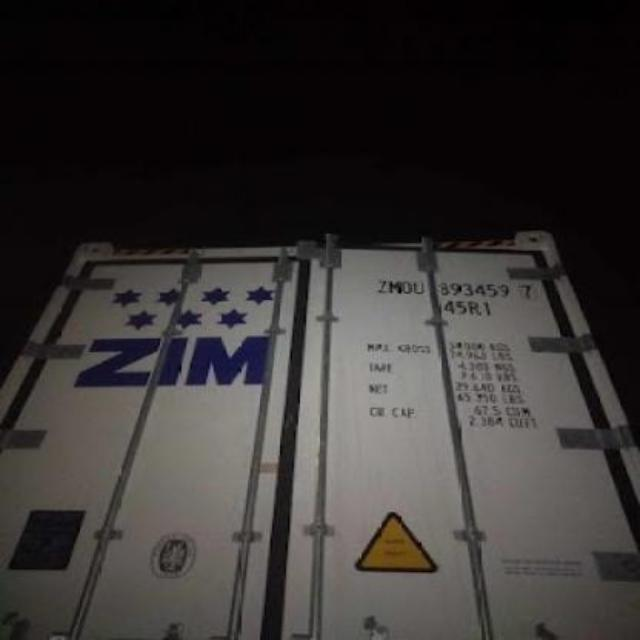3: (461, 280, 474, 296)
4: (476, 284, 486, 298)
5: (484, 282, 500, 298)
7: (520, 284, 534, 300)
8: (438, 280, 450, 296)
9: (498, 284, 512, 298), (450, 282, 460, 296)
M: (386, 278, 399, 294)
O: (402, 282, 414, 294)
U: (412, 280, 424, 296)
Z: (376, 279, 386, 295)
